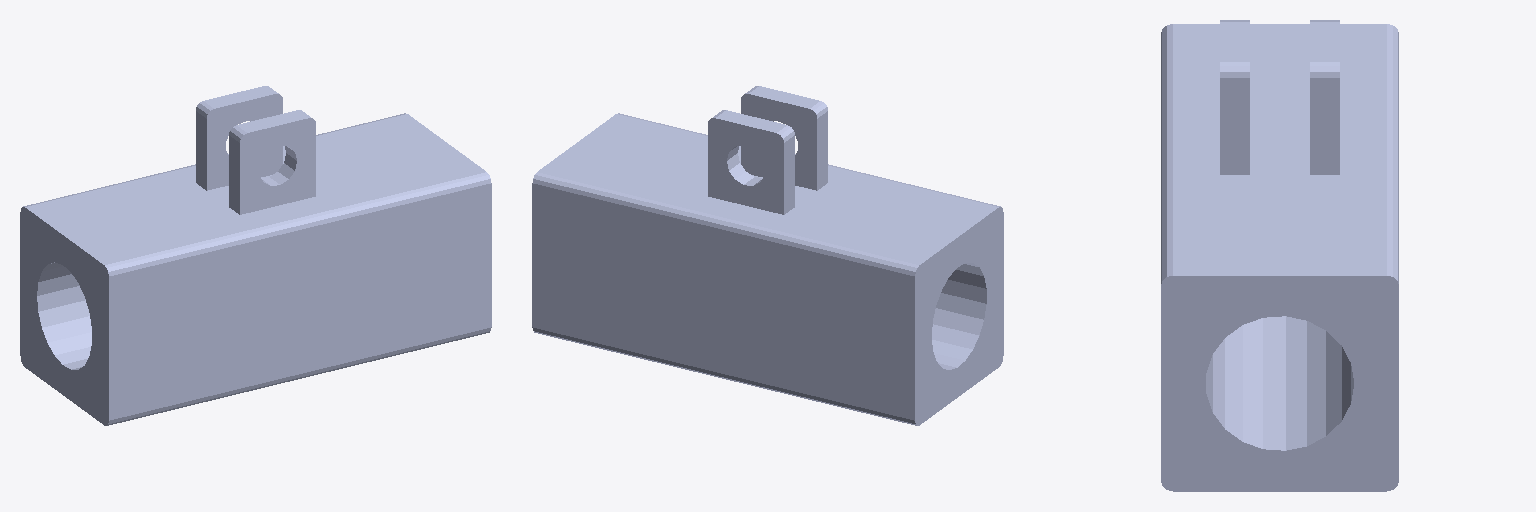
robot.urdf — cart:
<robot
  name="cart">
  <link
    name="cart">
    <inertial>
      <origin
        xyz="-9.5599E-18 1.33425381707038E-17 0.00084171"
        rpy="0 0 0" />
      <mass
        value="0.11377" />
      <inertia
        ixx="4.1669682348633E-05"
        ixy="-1.04625761823806E-20"
        ixz="5.44975644882897E-21"
        iyy="0.0001144665328628"
        iyz="1.214627773683E-21"
        izz="0.000111738946564849" />
    </inertial>
    <visual>
      <origin
        xyz="0 0 0"
        rpy="1.5707963267949 0 0" />
      <geometry>
        <mesh
          filename="package://cart/meshes/cart.STL" />
      </geometry>
      <material
        name="">
        <color
          rgba="0.79216 0.81961 0.93333 1" />
      </material>
    </visual>
    <collision>
      <origin
        xyz="0 0 0"
        rpy="1.5707963267949 0 0" />
      <geometry>
        <mesh
          filename="package://cart/meshes/cart.STL" />
      </geometry>
    </collision>
  </link>
</robot>

--- Facts derived from the render (not from the file) ---
Views: 3 orthographic renders of the robot side by side, from view 1: azimuth 30°, elevation 25°; view 2: azimuth 150°, elevation 25°; view 3: azimuth 270°, elevation 25°.
Robot: cart — 1 links, 0 joints (none); root link cart; default pose: all joints at 0.
Visible links, largest first — view 1: cart; view 2: cart; view 3: cart.
Boxes of the visible links, x1,y1,x2,y2 form: cart: [20, 86, 491, 425]; cart: [532, 86, 1003, 425]; cart: [1161, 20, 1398, 491].
Size in the robot's own frame: 0.1 by 0.04 by 0.06 metres.
Meshes: 1 distinct files referenced, 1 mesh visuals loaded (1 binary STL).